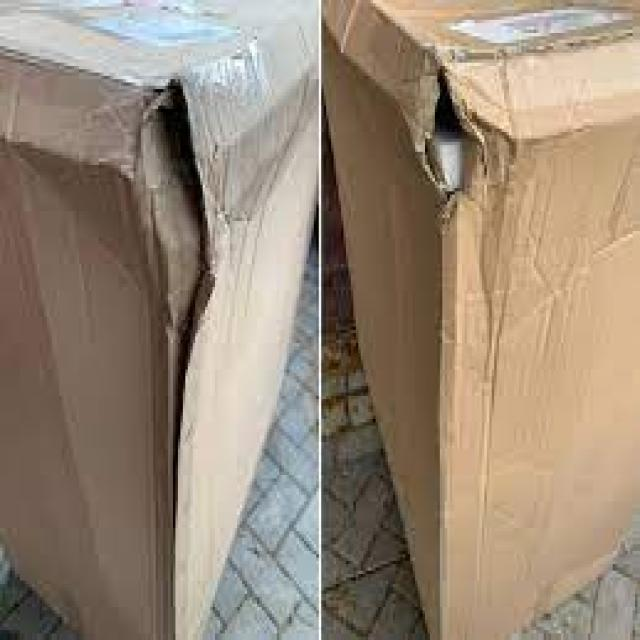Kardus kondisi bagus: (1, 1, 319, 640), (322, 2, 640, 640)
